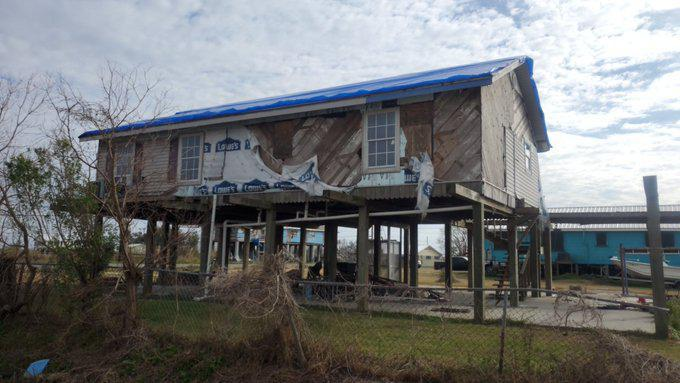major: (40, 41, 584, 313)
